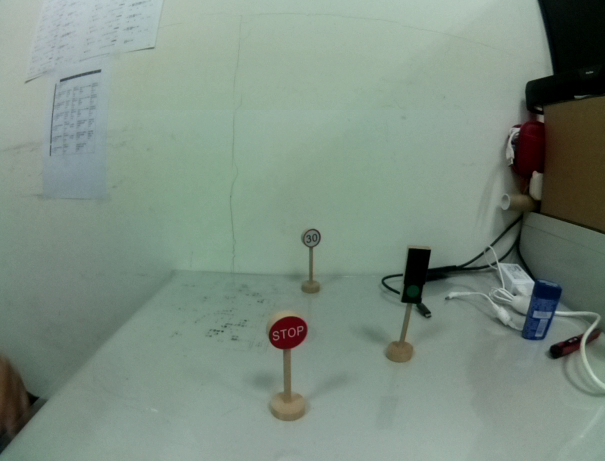Green: (398, 241, 434, 308)
Speed30: (298, 223, 326, 251)
Stop: (264, 313, 313, 351)
